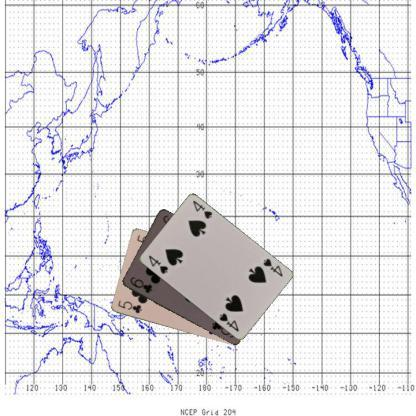4s: (146, 252, 170, 275), (260, 256, 284, 278)
5c: (115, 297, 143, 315)
6c: (128, 274, 154, 294)
